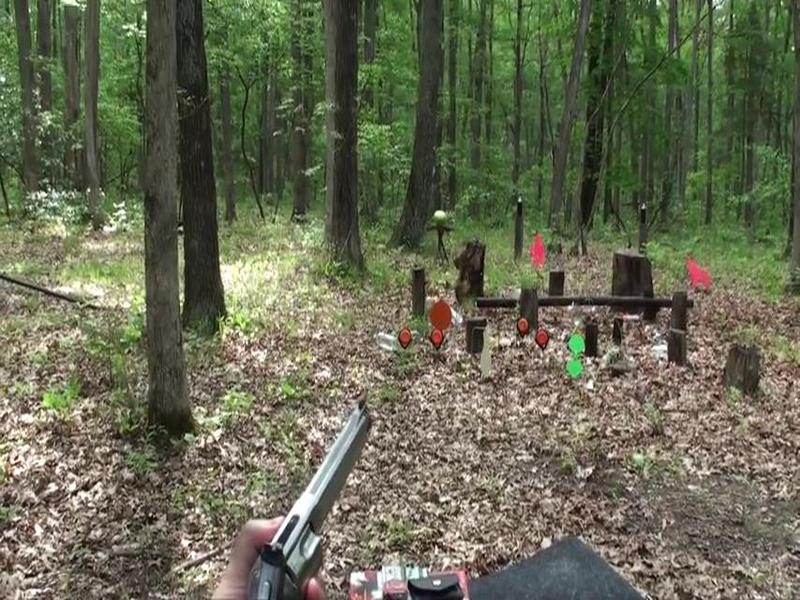Revolver: (231, 389, 417, 600)
